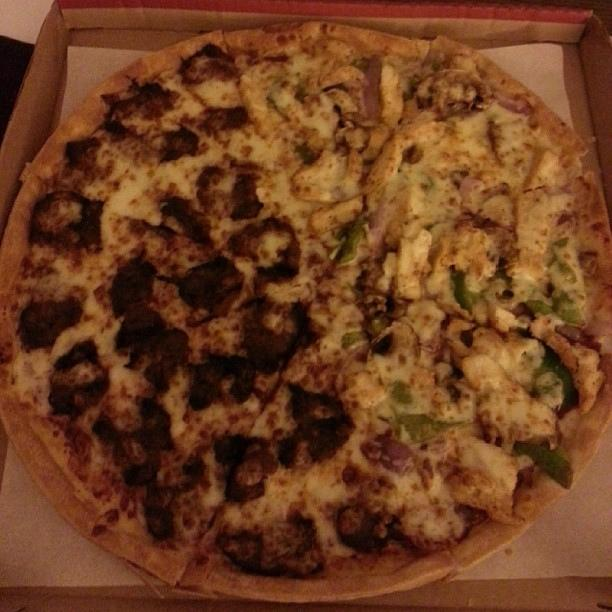bell pepper: (514, 440, 574, 490), (532, 342, 574, 408), (397, 414, 473, 444), (336, 214, 370, 266), (451, 272, 480, 315), (552, 290, 582, 324), (364, 314, 392, 340), (388, 378, 414, 406), (267, 91, 291, 112), (341, 331, 367, 350), (557, 262, 577, 284), (526, 300, 553, 314), (429, 176, 434, 192)
